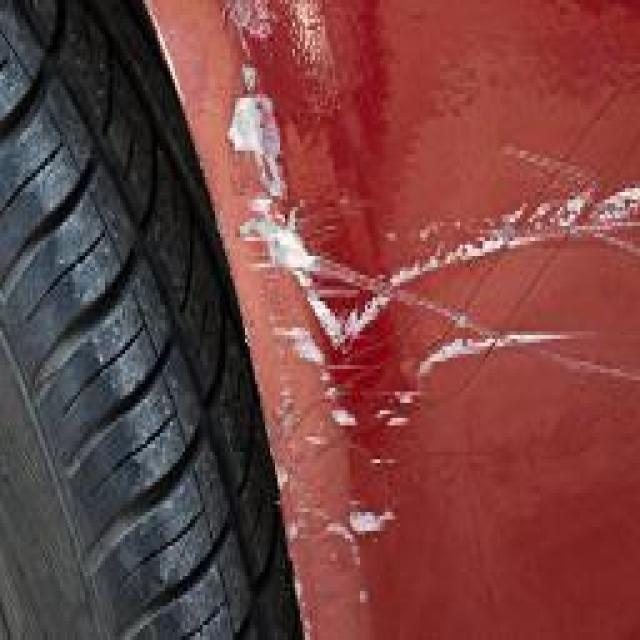Bumper: (195, 0, 635, 640)
